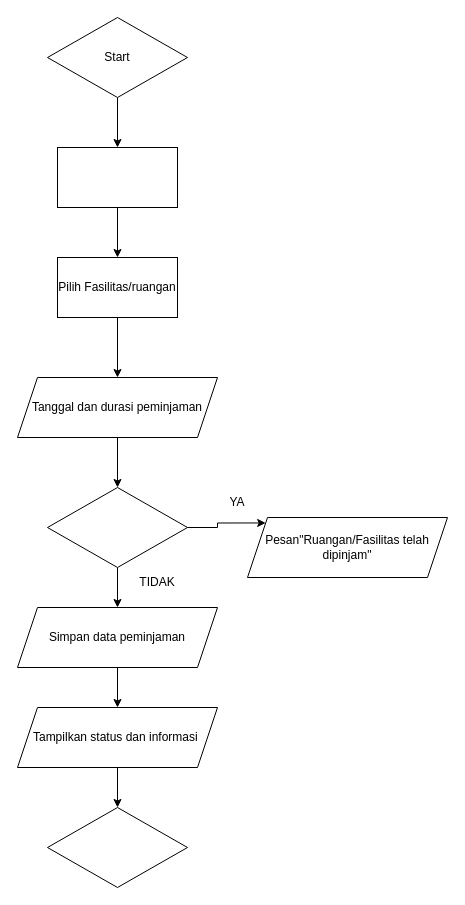
This 465x905 diagram has some shape labels left out. The shapes that lost their labels are listed below. From the top down, each one's centre as x and y in pixels, then its label:
At [117,177]: "Login User".
At [117,527]: "Jadwal Bentrok?".
At [117,847]: "End".
